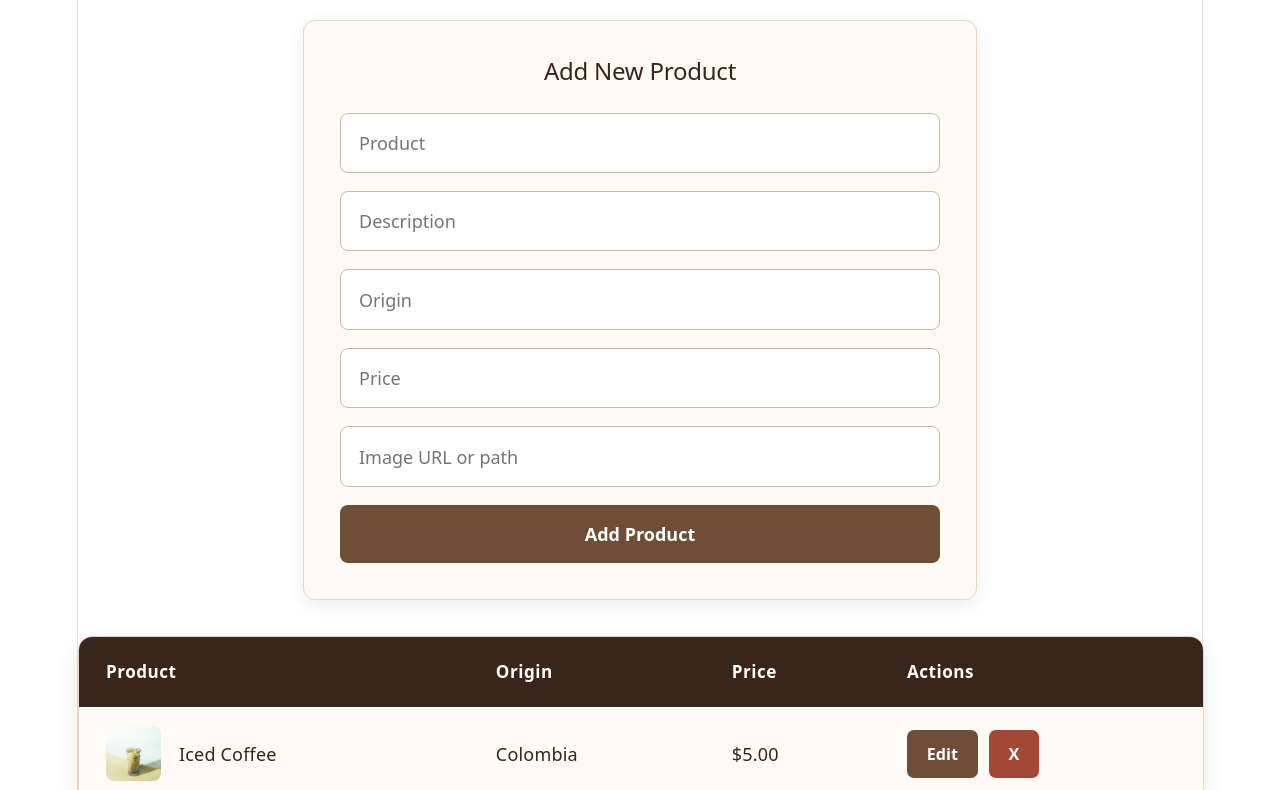
Scenario: AdminPortal › opens the edit form with the selected product information
This screenshot has width=1280, height=790.
(page scrolled)
Click Edit for the sample product
Click the button "Edit".
click(942, 754)  # box [907,730,978,778]
(page scrolled)
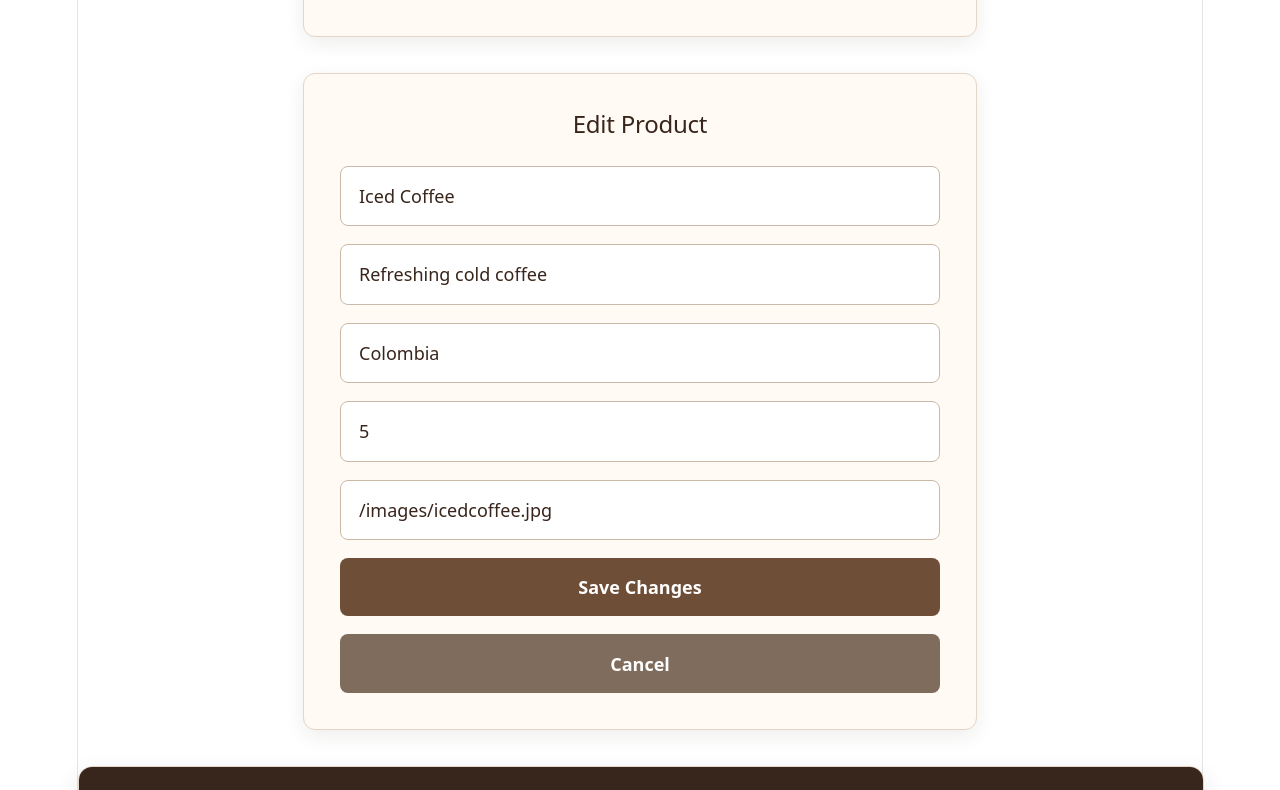
Check: the heading "Edit Product" is shown, box [573,107,707,140]
Check: the 1st field showing "Iced Coffee" is shown, box [340,166,940,226]
Check: the 2nd field showing "Refreshing cold coffee" is shown, box [340,244,940,305]
